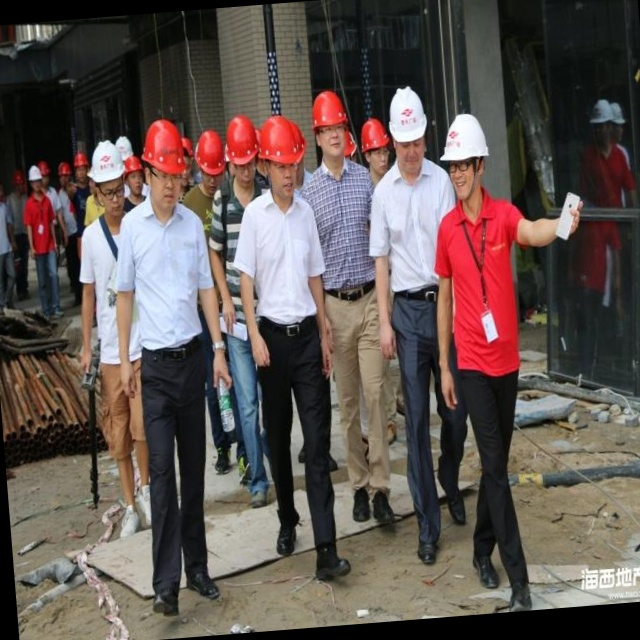Con_Casco: (440, 112, 492, 201), (141, 120, 188, 209), (386, 87, 432, 173)
Sin_Chaleco: (120, 205, 217, 361), (439, 197, 522, 368), (242, 195, 325, 328)
